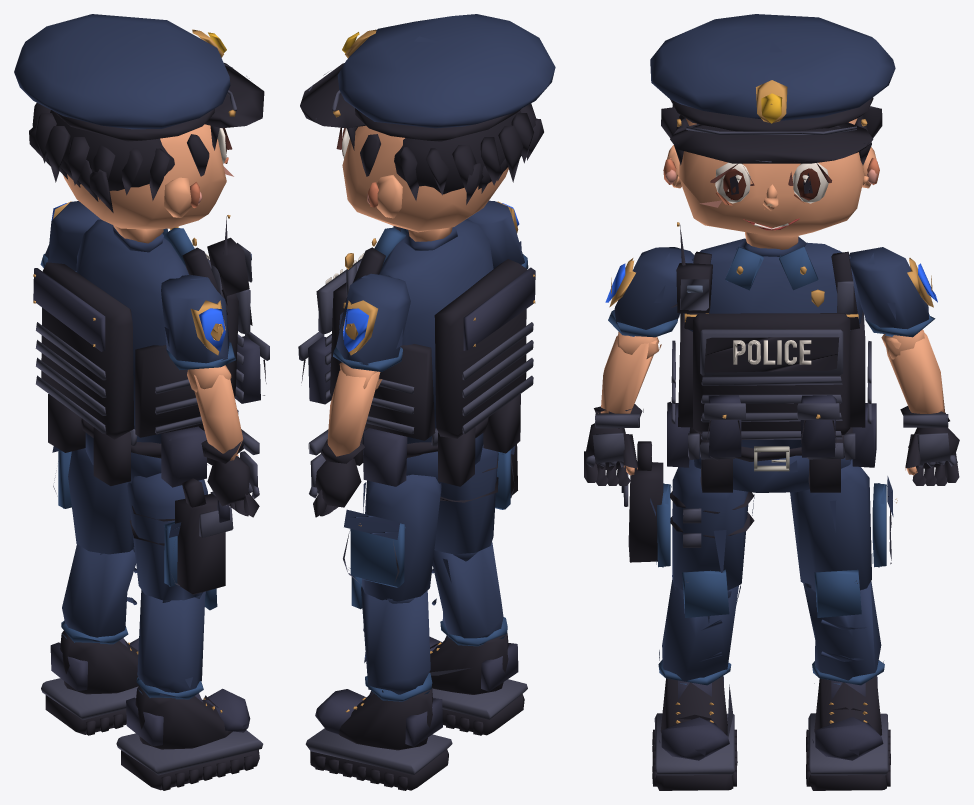
3 views of the same model, side by side, from view 1: azimuth 30°, elevation 25°; view 2: azimuth 150°, elevation 25°; view 3: azimuth 270°, elevation 25° (orthographic).
Visible parts, largest first — view 1: head, torso, footR, legR, footL, hip, shinR, shinL, armR, legL, foreArmR, handR (+1 smaller); view 2: head, torso, footL, legL, footR, hip, shinL, armL, legR, shinR, foreArmL, handL (+1 smaller); view 3: head, torso, legR, hip, legL, footR, footL, shinR, shinL, armL, armR, handR (+3 smaller).
Part boxes in pixels (<box>): head: <box>14,14,264,243</box>; torso: <box>33,215,269,443</box>; footR: <box>116,686,263,790</box>; legR: <box>127,473,233,600</box>; footL: <box>41,631,139,735</box>; hip: <box>48,394,238,487</box>; shinR: <box>136,588,217,699</box>; shinL: <box>61,544,137,644</box>; armR: <box>161,274,235,370</box>; legL: <box>52,446,134,554</box>; foreArmR: <box>187,365,243,460</box>; handR: <box>201,429,259,517</box>; head: <box>300,14,555,241</box>; torso: <box>298,219,535,443</box>; footL: <box>305,688,452,790</box>; legL: <box>343,474,441,601</box>; footR: <box>429,633,527,735</box>; hip: <box>353,394,520,486</box>; shinL: <box>348,568,432,701</box>; armL: <box>333,273,410,371</box>; legR: <box>434,444,517,554</box>; shinR: <box>431,542,507,646</box>; foreArmL: <box>327,362,382,456</box>; handL: <box>308,429,364,517</box>; head: <box>650,14,895,249</box>; torso: <box>671,222,871,460</box>; legR: <box>621,441,754,590</box>; hip: <box>667,401,876,492</box>; legL: <box>790,459,897,591</box>; footR: <box>652,676,737,790</box>; footL: <box>806,676,890,790</box>; shinR: <box>658,569,740,685</box>; shinL: <box>803,569,884,685</box>; armL: <box>849,247,937,337</box>; armR: <box>605,247,694,337</box>; handR: <box>584,404,643,485</box>.
Size of the model in its own units: 0.5718 by 1.8 by 0.8574.
